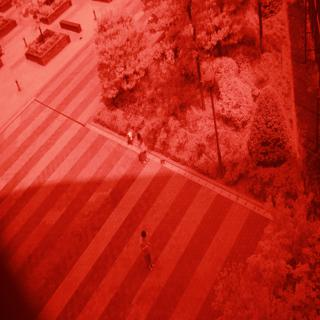person: (136, 227, 159, 273), (128, 127, 150, 172)
